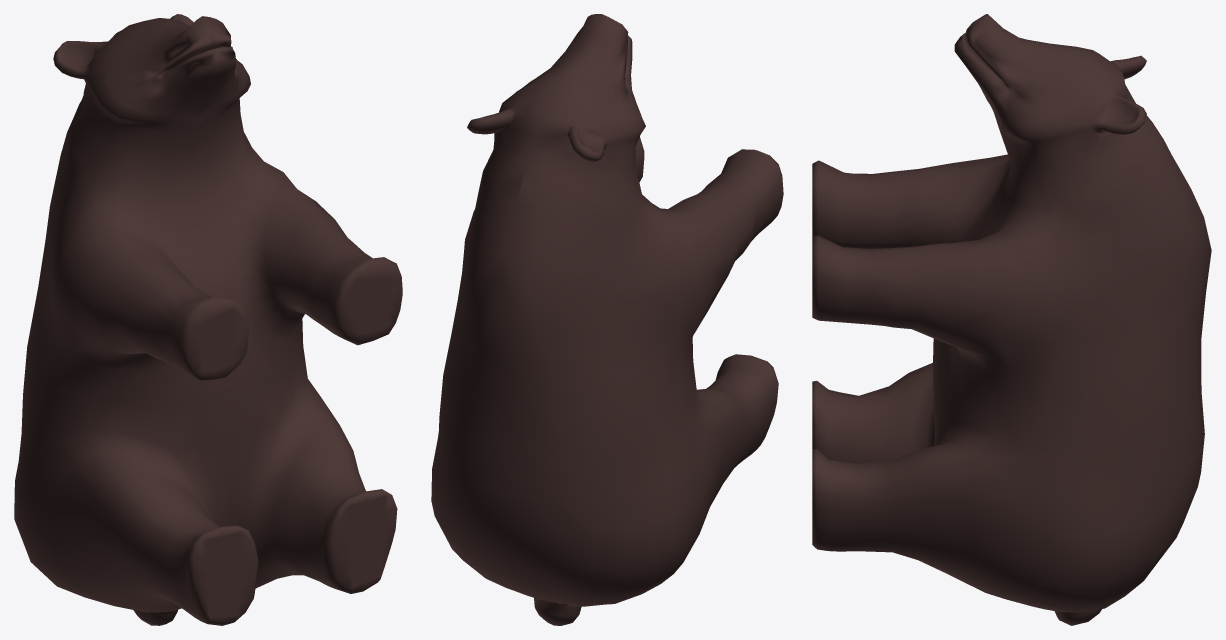
Rendered from TestBear.fbx.
3 renders of one model, left to right at view 1: azimuth 30°, elevation 25°; view 2: azimuth 150°, elevation 25°; view 3: azimuth 270°, elevation 25°, orthographic. The views are drawn at different scales.
Parts seen in each view (by area): view 1: bear; view 2: bear; view 3: bear.
Boxes of the visible parts, left/top/right/bottom form: bear: left=14, top=14, right=402, bottom=625; bear: left=431, top=14, right=783, bottom=625; bear: left=812, top=14, right=1211, bottom=625.
Bounding box in the file's own units: 20019 × 45505 × 27062.
